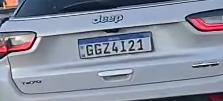Placa_mercosul_carro: (77, 31, 154, 60)
